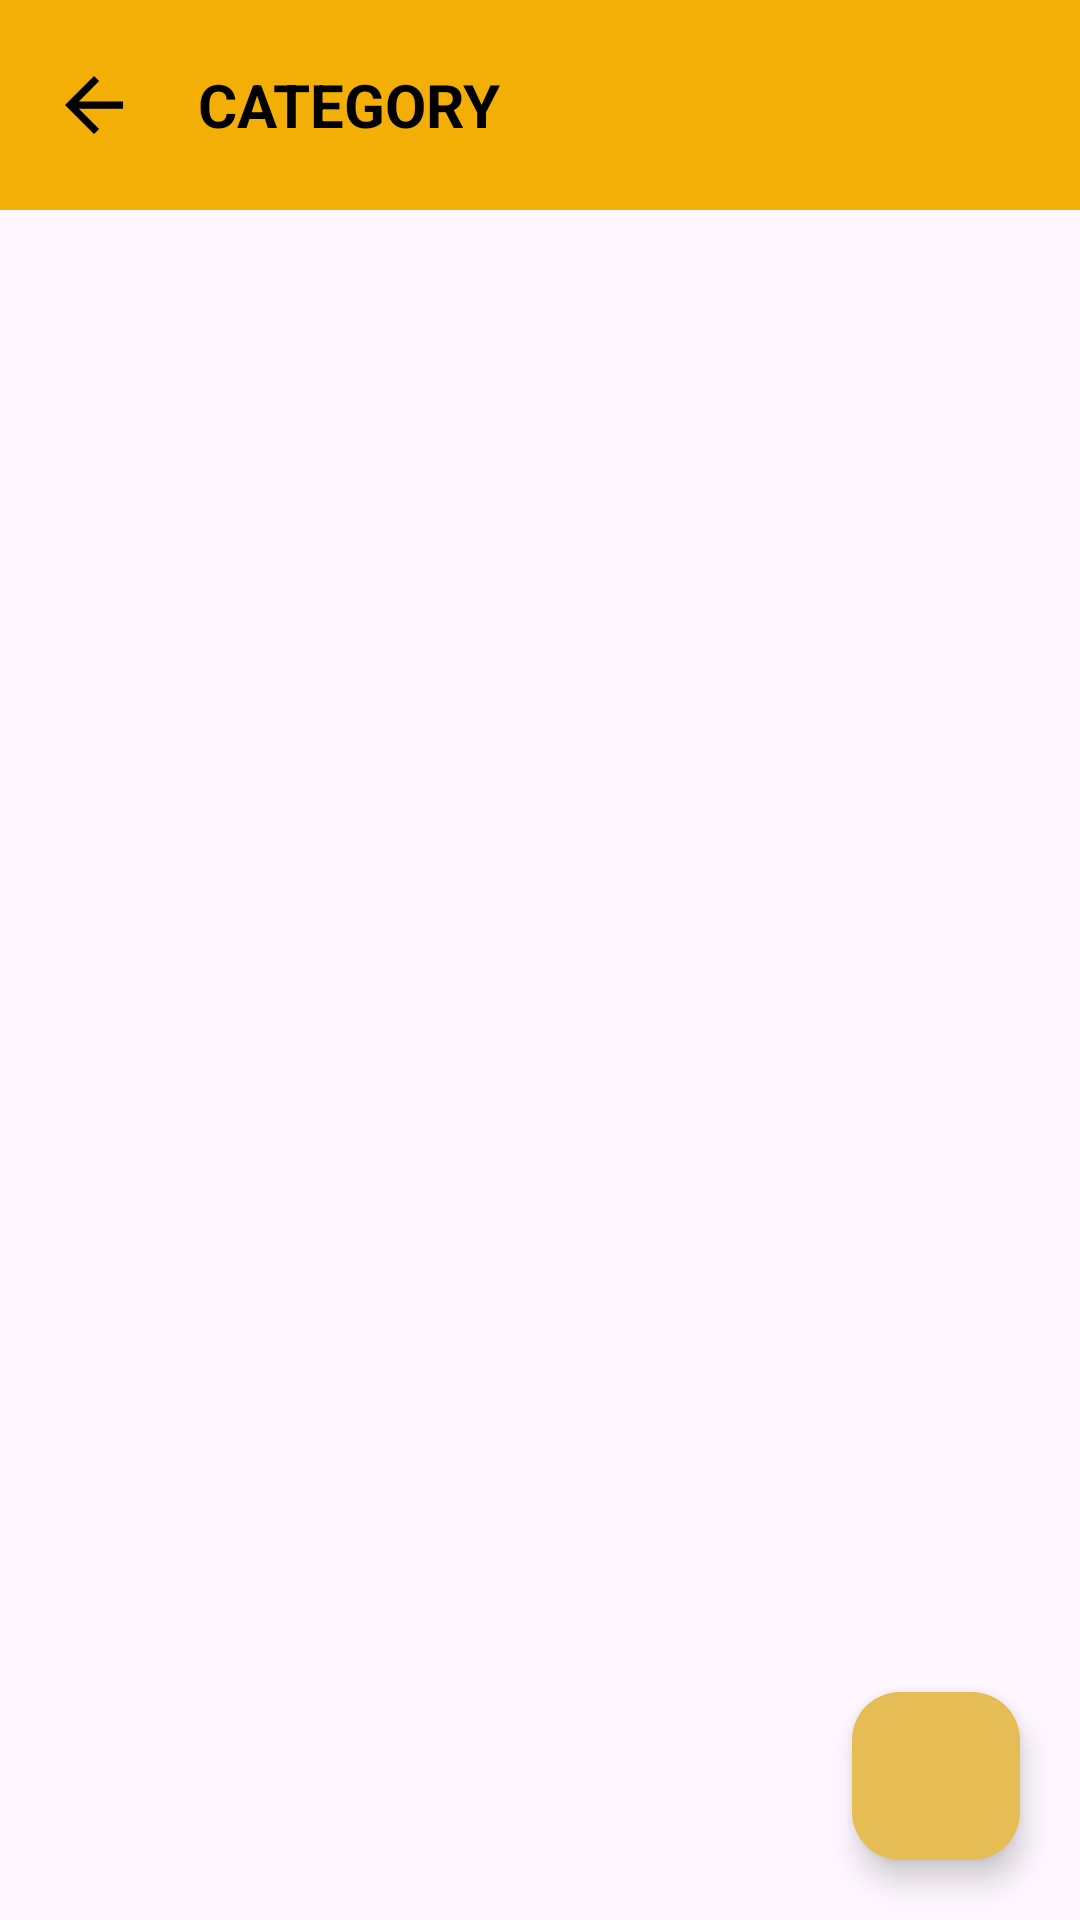

Named icons in this screenshot (1080×1920) and their centers, point (x, y):
backarrow: point (94, 105)
